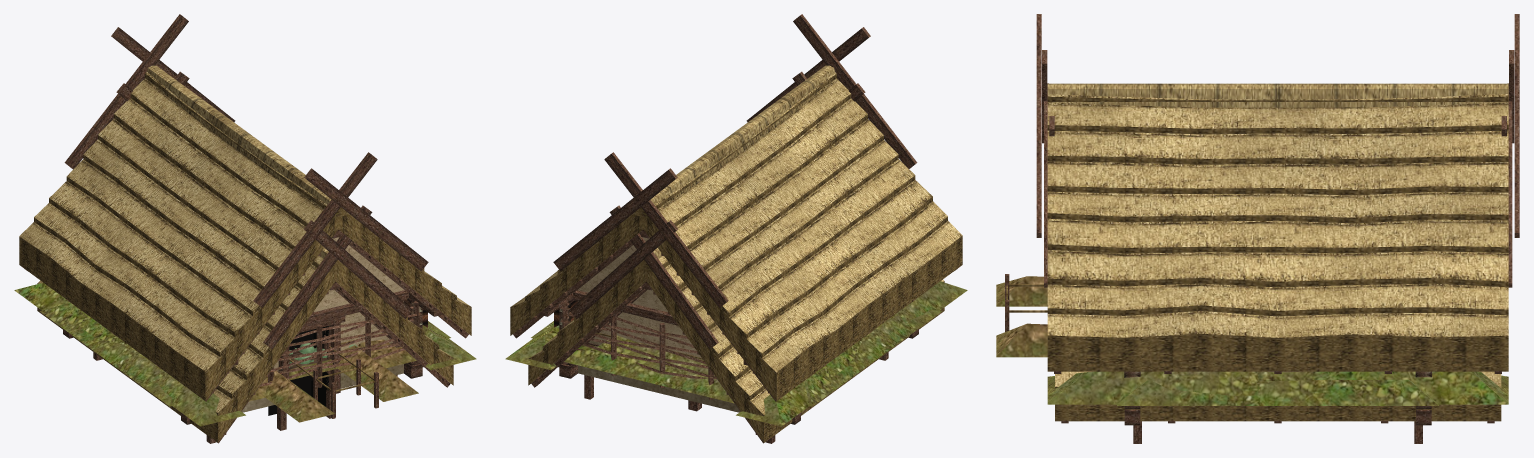
Rendered from construction.glb.
3 views of the same model, side by side, from view 1: azimuth 30°, elevation 25°; view 2: azimuth 150°, elevation 25°; view 3: azimuth 270°, elevation 25° (orthographic). The views are drawn at different scales.
Parts seen in each view (by area): view 1: polozemnice-thatch-1, polozemnice-ridge, zemnice-berms, polozemnice-thatch-3, polozemnice-thatch-4, polozemnice-thatch-7, polozemnice-thatch-2, polozemnice-thatch-6, polozemnice-thatch-5, polozemnice-thatch-8, polozemnice-daub, polozemnice-berms (+18 smaller); view 2: polozemnice-thatch-1, polozemnice-ridge, polozemnice-thatch-3, polozemnice-thatch-4, polozemnice-thatch-7, polozemnice-thatch-2, polozemnice-thatch-6, polozemnice-berms, polozemnice-thatch-5, polozemnice-thatch-8, zemnice-berms, polozemnice-daub (+15 smaller); view 3: polozemnice-thatch-1, polozemnice-thatch-3, polozemnice-thatch-4, polozemnice-thatch-7, polozemnice-thatch-6, polozemnice-thatch-2, polozemnice-thatch-5, polozemnice-ridge, zemnice-berms, polozemnice-thatch-8, zemnice-thatch-1, polozemnice-berms (+3 smaller).
Boxes of the visible parts, bbox=[...] form: polozemnice-thatch-1: bbox=[19, 217, 471, 400]; polozemnice-ridge: bbox=[64, 14, 428, 307]; zemnice-berms: bbox=[14, 282, 476, 426]; polozemnice-thatch-3: bbox=[49, 177, 441, 361]; polozemnice-thatch-4: bbox=[67, 155, 424, 339]; polozemnice-thatch-7: bbox=[114, 93, 376, 278]; polozemnice-thatch-2: bbox=[34, 198, 456, 381]; polozemnice-thatch-6: bbox=[98, 114, 392, 298]; polozemnice-thatch-5: bbox=[83, 135, 407, 317]; polozemnice-thatch-8: bbox=[131, 73, 360, 257]; polozemnice-daub: bbox=[241, 237, 427, 412]; polozemnice-berms: bbox=[40, 302, 450, 406]; polozemnice-thatch-1: bbox=[510, 216, 962, 400]; polozemnice-ridge: bbox=[553, 14, 917, 307]; polozemnice-thatch-3: bbox=[540, 175, 932, 361]; polozemnice-thatch-4: bbox=[557, 155, 914, 339]; polozemnice-thatch-7: bbox=[605, 94, 867, 278]; polozemnice-thatch-2: bbox=[525, 196, 947, 381]; polozemnice-thatch-6: bbox=[589, 114, 883, 298]; polozemnice-berms: bbox=[531, 309, 941, 406]; polozemnice-thatch-5: bbox=[574, 135, 898, 317]; polozemnice-thatch-8: bbox=[621, 74, 850, 257]; zemnice-berms: bbox=[505, 281, 967, 426]; polozemnice-daub: bbox=[554, 237, 740, 412]; polozemnice-thatch-1: bbox=[1047, 305, 1508, 371]; polozemnice-thatch-3: bbox=[1047, 244, 1508, 281]; polozemnice-thatch-4: bbox=[1047, 213, 1508, 247]; polozemnice-thatch-7: bbox=[1047, 125, 1508, 159]; polozemnice-thatch-6: bbox=[1047, 156, 1508, 189]; polozemnice-thatch-2: bbox=[1047, 278, 1508, 310]; polozemnice-thatch-5: bbox=[1047, 186, 1508, 217]; polozemnice-ridge: bbox=[1036, 14, 1519, 237]; zemnice-berms: bbox=[996, 276, 1508, 404]; polozemnice-thatch-8: bbox=[1047, 96, 1508, 128]; zemnice-thatch-1: bbox=[1055, 371, 1501, 421]; polozemnice-berms: bbox=[1117, 379, 1439, 405].
Size of the model in its own units: 5.5 by 5.36 by 7.15.
Materials: 1 (1 with a texture image).
